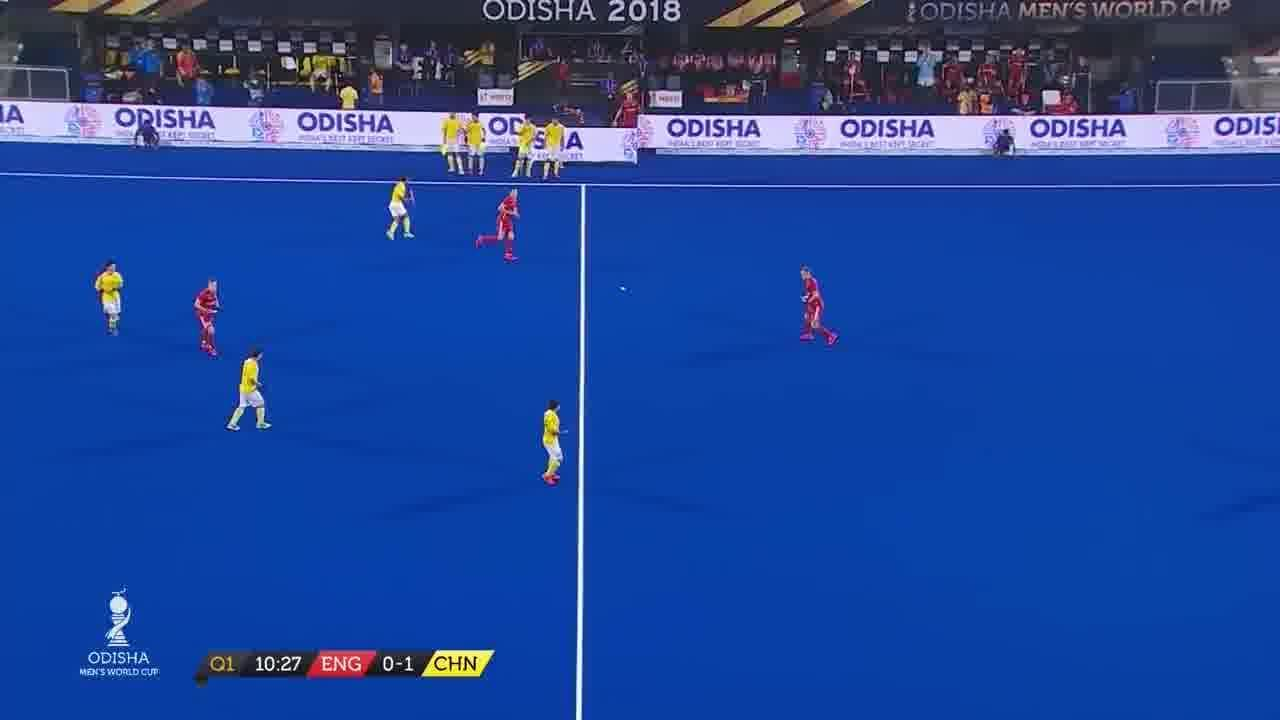ball: (612, 281, 634, 296)
